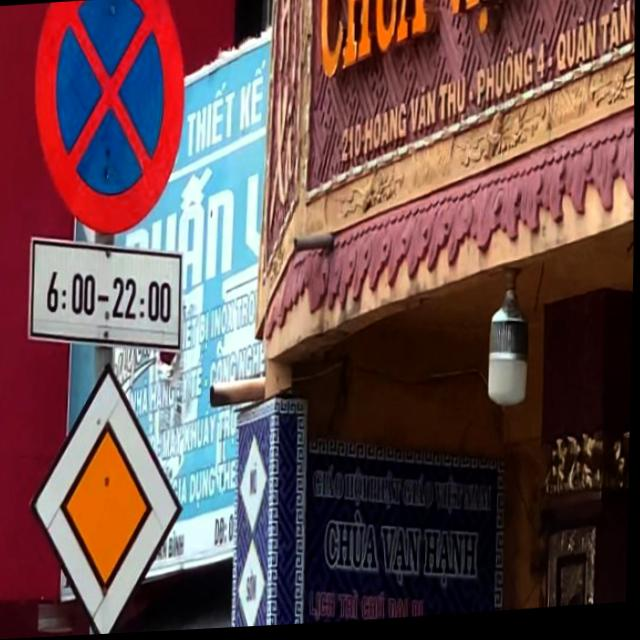Cam dung xe va do xe: (30, 0, 188, 241)
